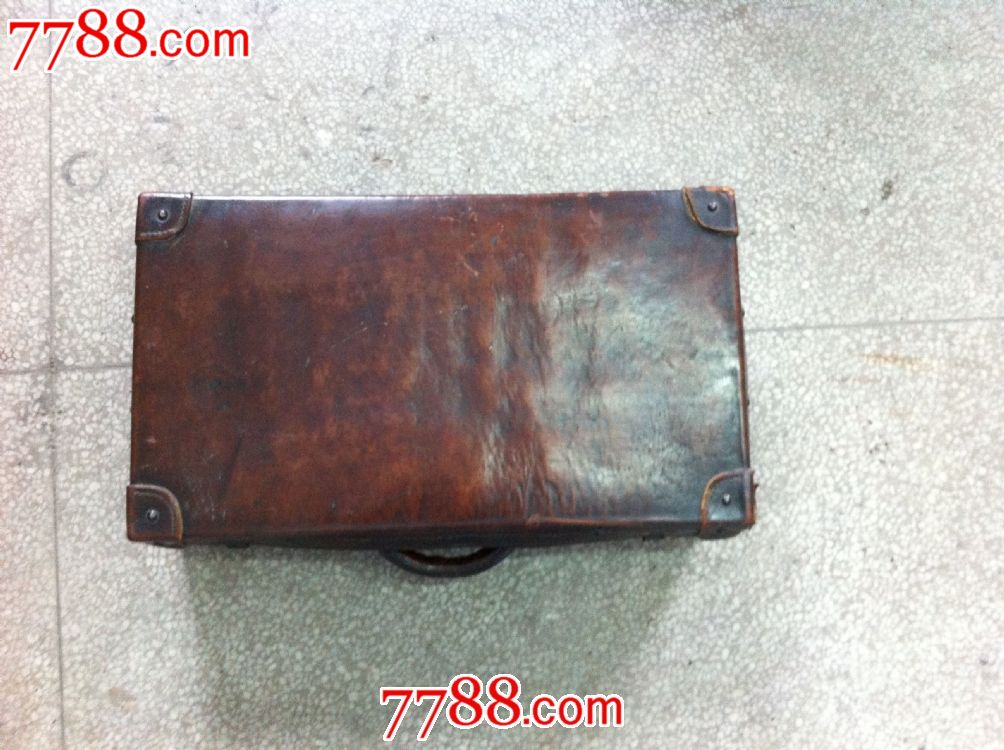shoutibox: (127, 187, 771, 576)
